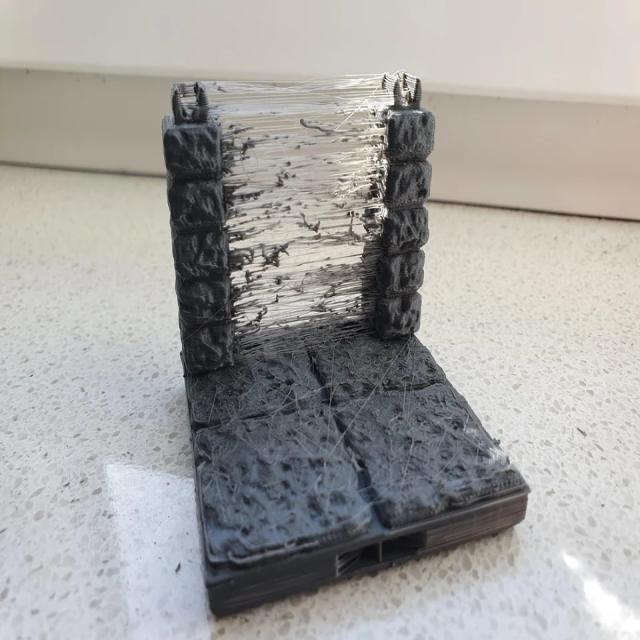stringing: (210, 73, 413, 339)
